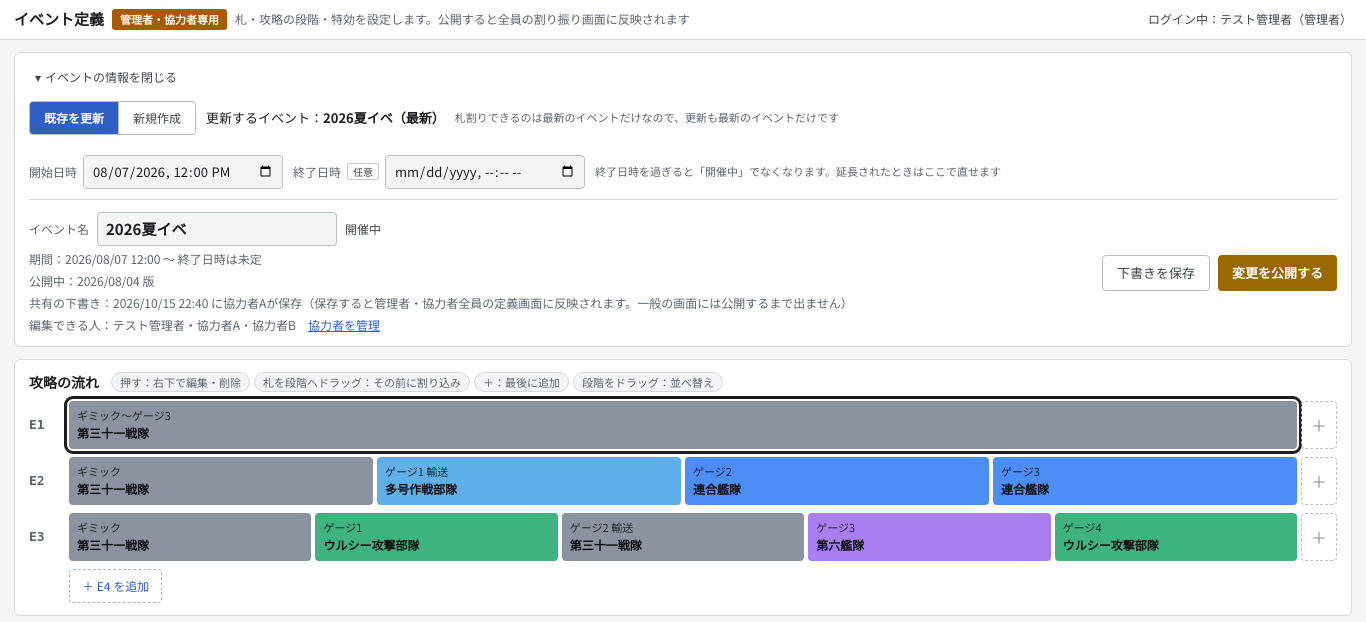
Test: イベント定義の画面（PlanEditor）：特効グループの艦種（v1.1。国籍の条件を絞る） › 艦種の行を出す条件（国籍が 1 つ以上あるときだけ） › 国籍を選ぶ欄でアメリカにチェックを入れると、そのグループに「＋ 艦種」ボタンが出る
Expected: the element "攻略の流れ" is shown, 14,358 -> 1352,616
Click the button "ゲージ3 連合艦隊" at x=1020, y=470, box 993,456 -> 1297,504
(page scrolled)
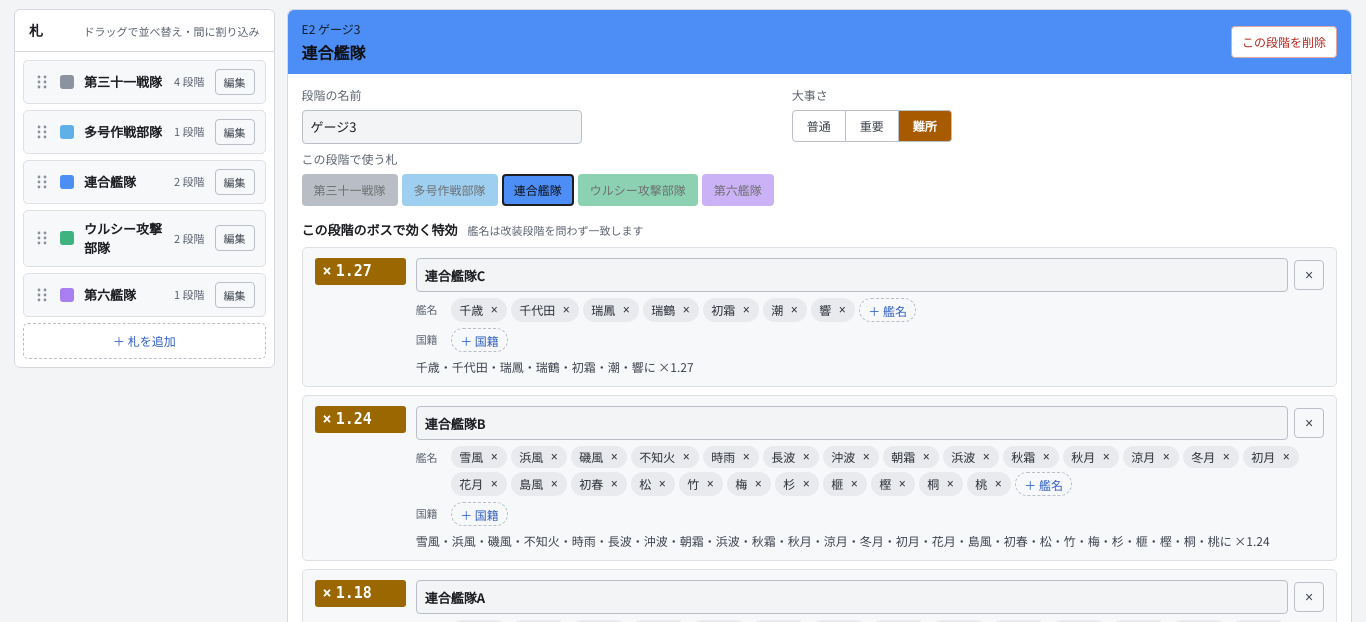
Expected: the button "＋ 艦種" is not shown
Click the 1st button "＋ 国籍" at x=479, y=340, box 451,328 -> 508,352
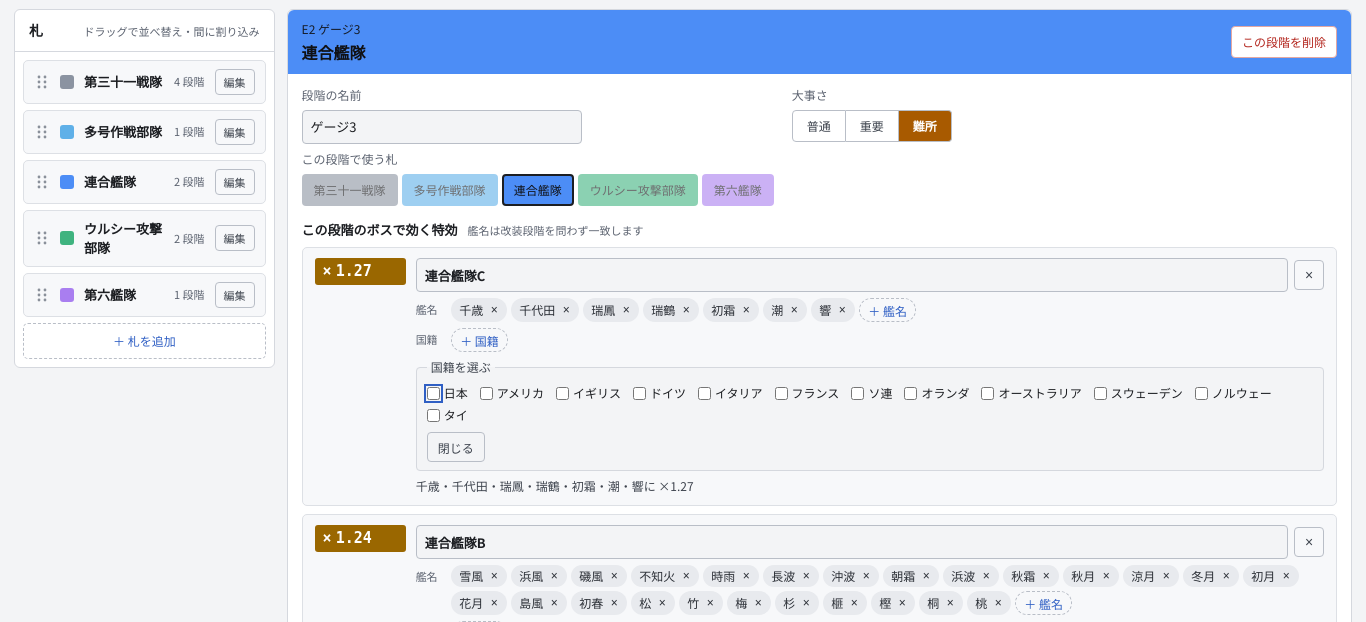
Click the checkbox labelled "アメリカ" at x=486, y=393, box 480,386 -> 493,400
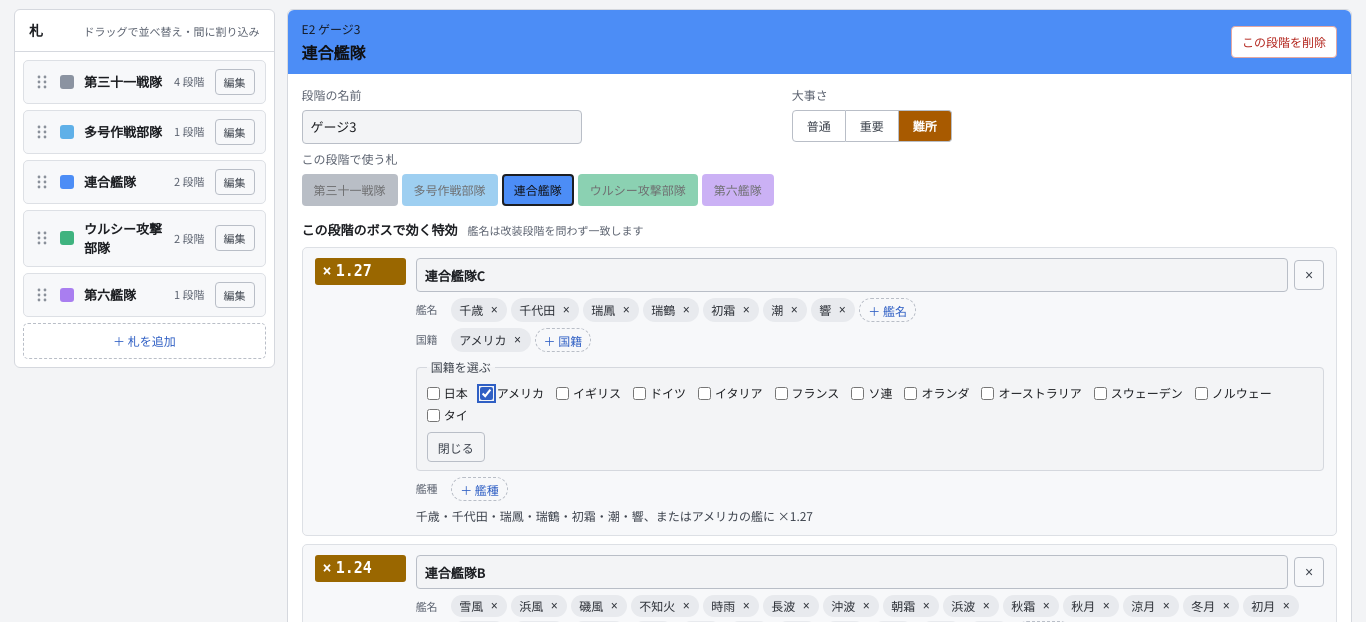
Expected: the button "＋ 艦種" is shown, 451,477 -> 508,501
